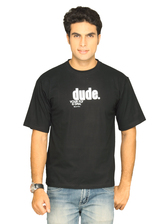clothoes: (20, 58, 147, 190)
watch: (26, 182, 48, 192)
